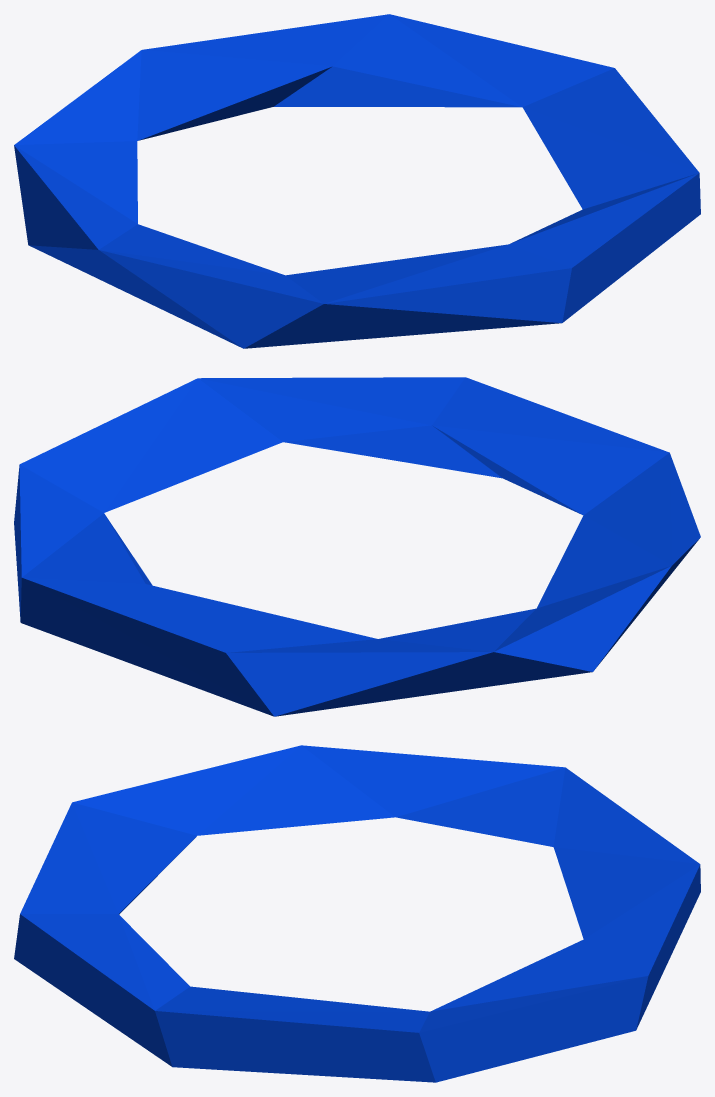
Rendered from TicTacToeOO.fbx.
3 views of the same model, one above another, from view 1: azimuth 30°, elevation 25°; view 2: azimuth 150°, elevation 25°; view 3: azimuth 270°, elevation 25° (orthographic). The views are drawn at different scales.
Parts seen in each view (by area): view 1: O; view 2: O; view 3: O.
Boxes of the visible parts, x1,y1,x2,y2 form: O: [14, 14, 700, 348]; O: [14, 377, 700, 716]; O: [14, 745, 700, 1082].
Size of the model in its own units: 48.63 by 4.05 by 49.1.
